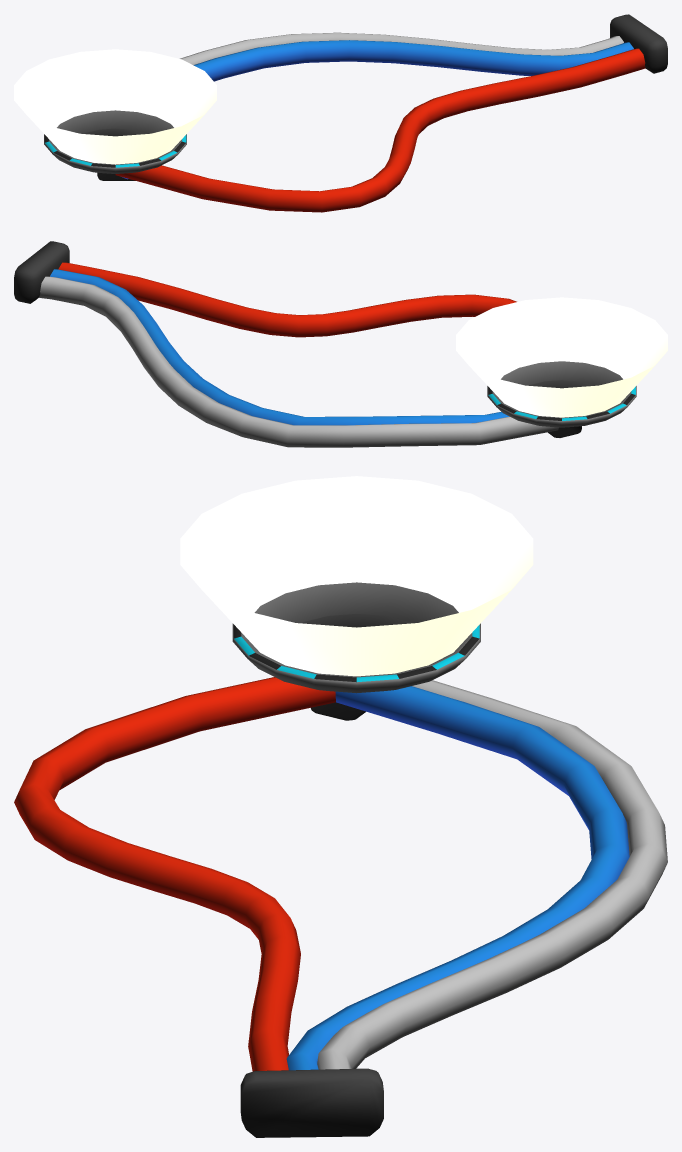
The model's file is Charge_Station_01.fbx.
3 views of the same model, one above another, from view 1: azimuth 30°, elevation 25°; view 2: azimuth 150°, elevation 25°; view 3: azimuth 270°, elevation 25° (orthographic). The views are drawn at different scales.
Visible parts, largest first — view 1: Charge_Station_01; view 2: Charge_Station_01; view 3: Charge_Station_01.
Boxes of the visible parts, box(x1,y1,x2,y2) form: Charge_Station_01: box(14, 14, 667, 212); Charge_Station_01: box(14, 241, 667, 447); Charge_Station_01: box(14, 476, 667, 1137).
Size of the model in its own units: 954 by 126 by 511.
